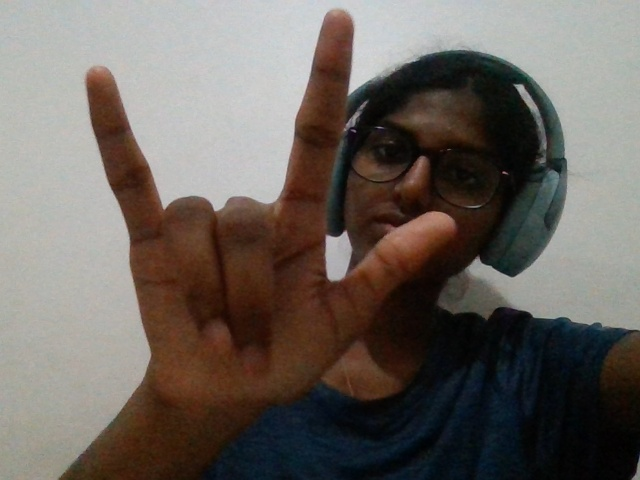I Love You: (30, 6, 476, 457)
